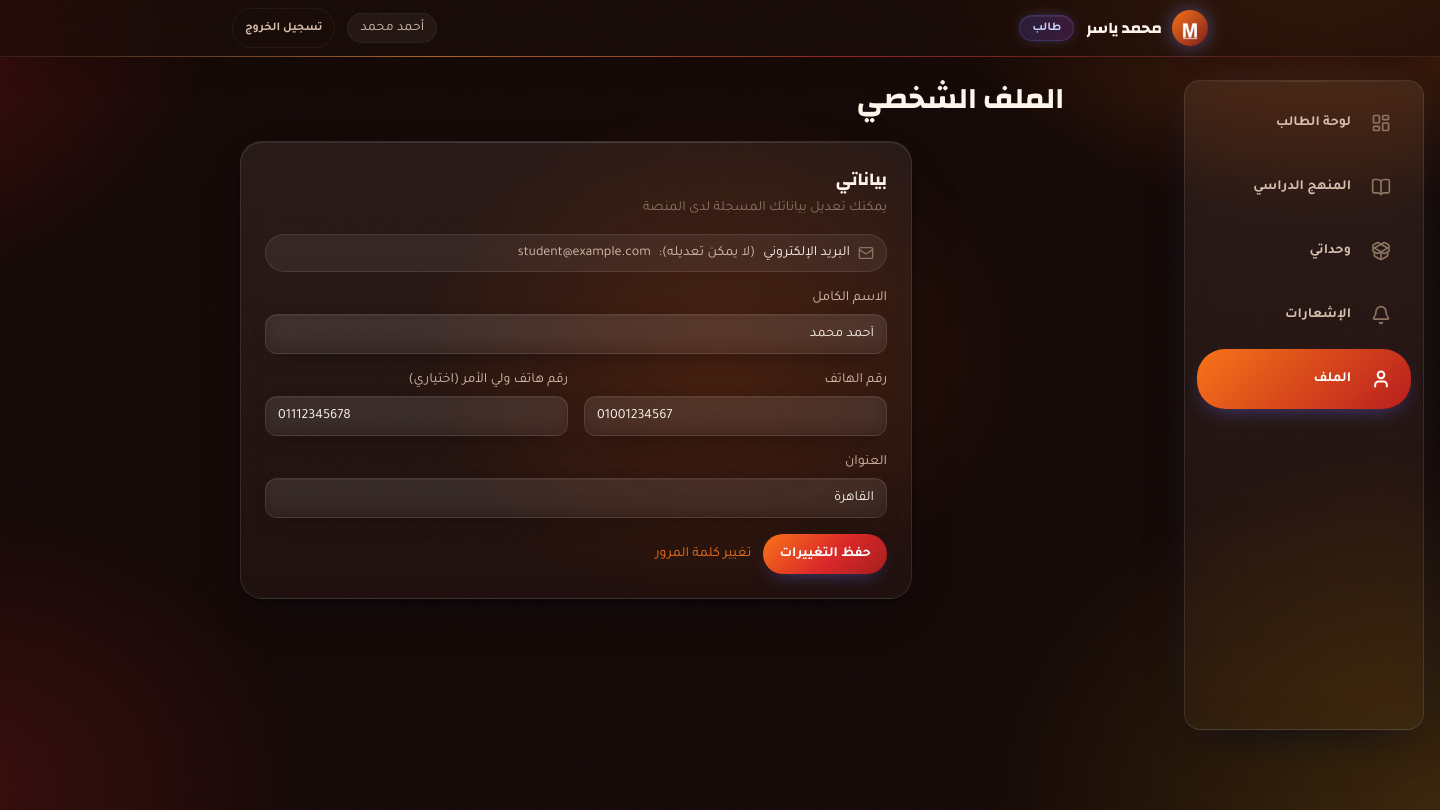
Scenario: StudentProfilePage › shows an error toast when the profile save fails due to a network error
Replace the text in the field labelled "الاسم الكامل" with "أحمد الجديد": (576, 334) [265,314,887,354]
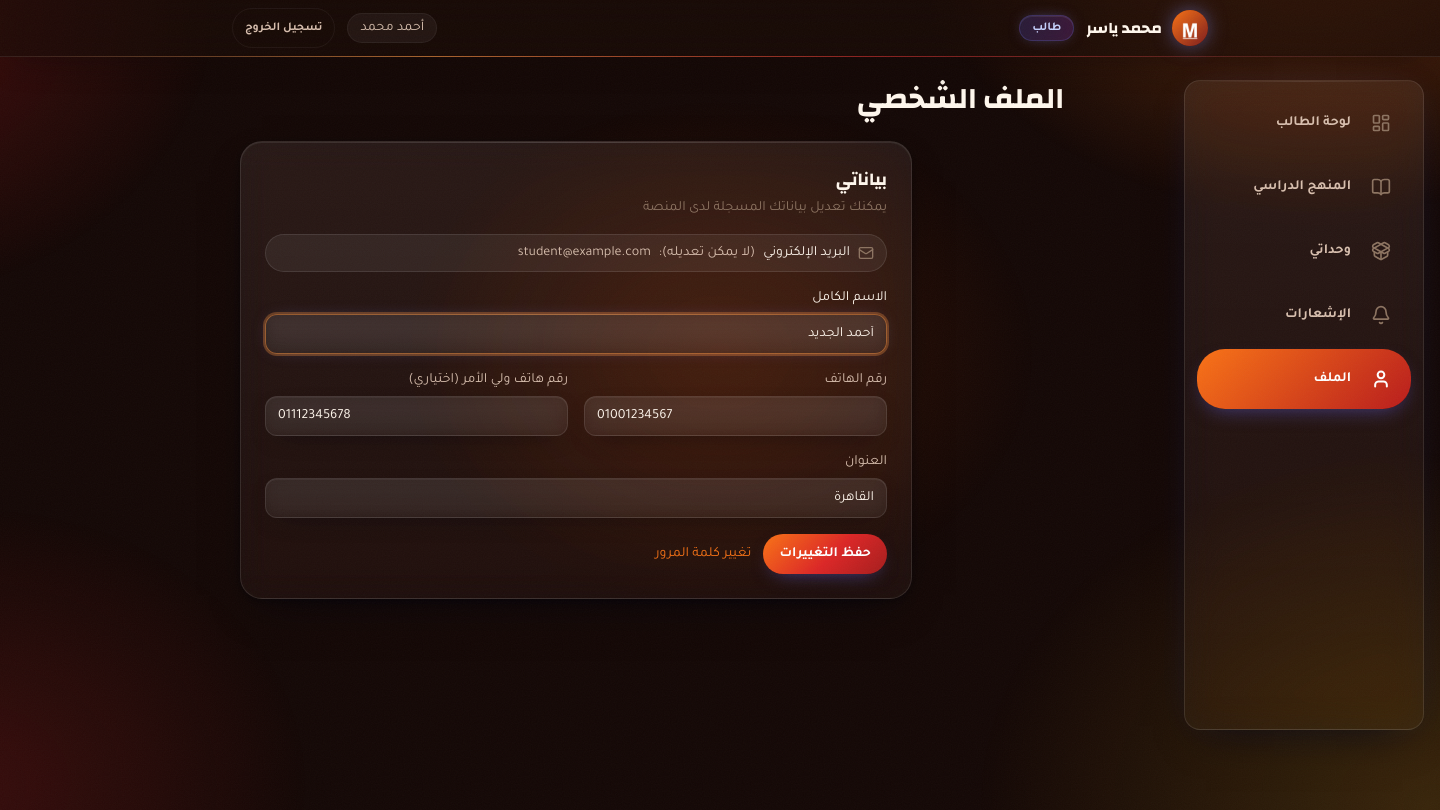
Click the button "حفظ التغييرات": (825, 554) [763,534,887,574]
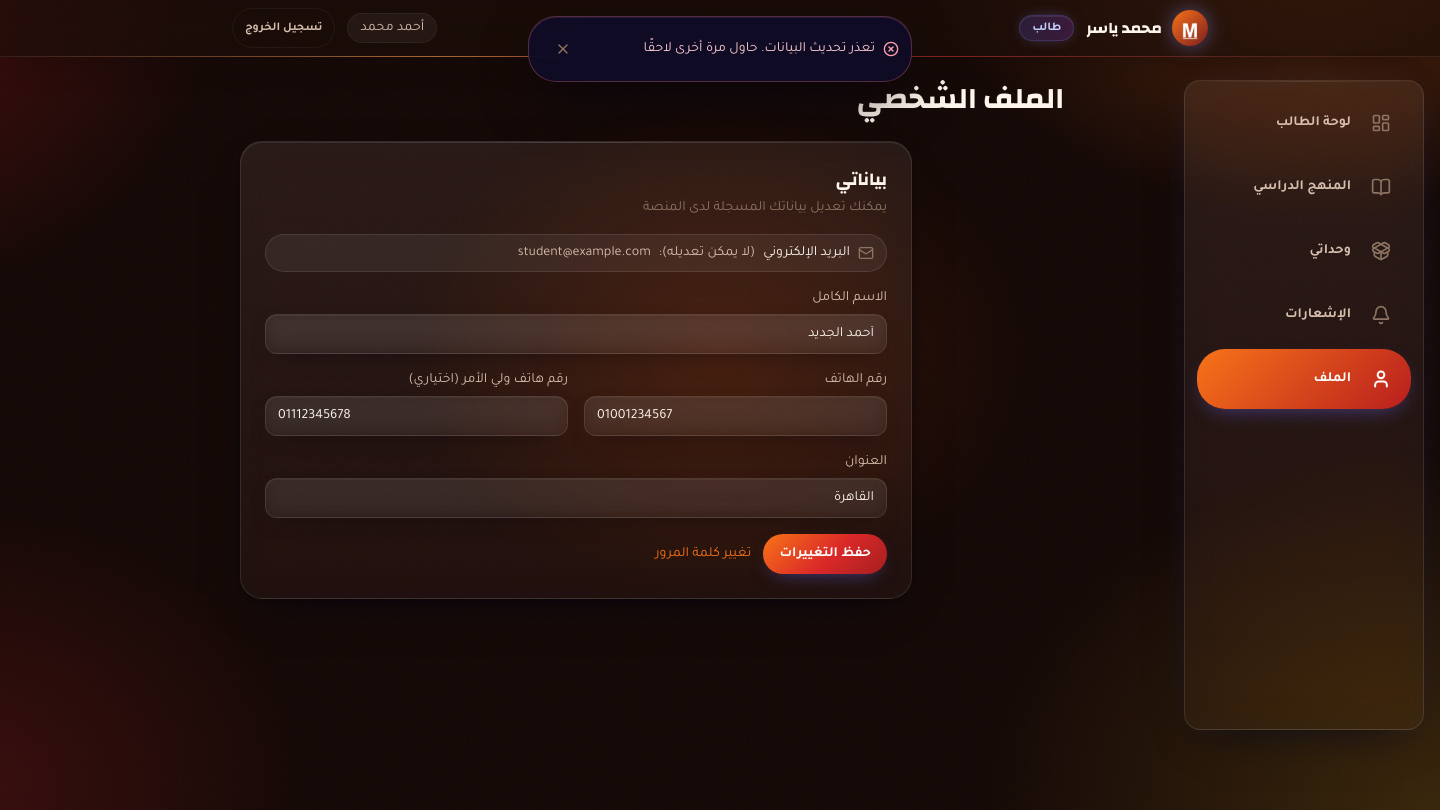
Check: the text "تعذر تحديث البيانات. حاول مرة أخرى لاحقًا" is shown, box [644,42,875,56]
